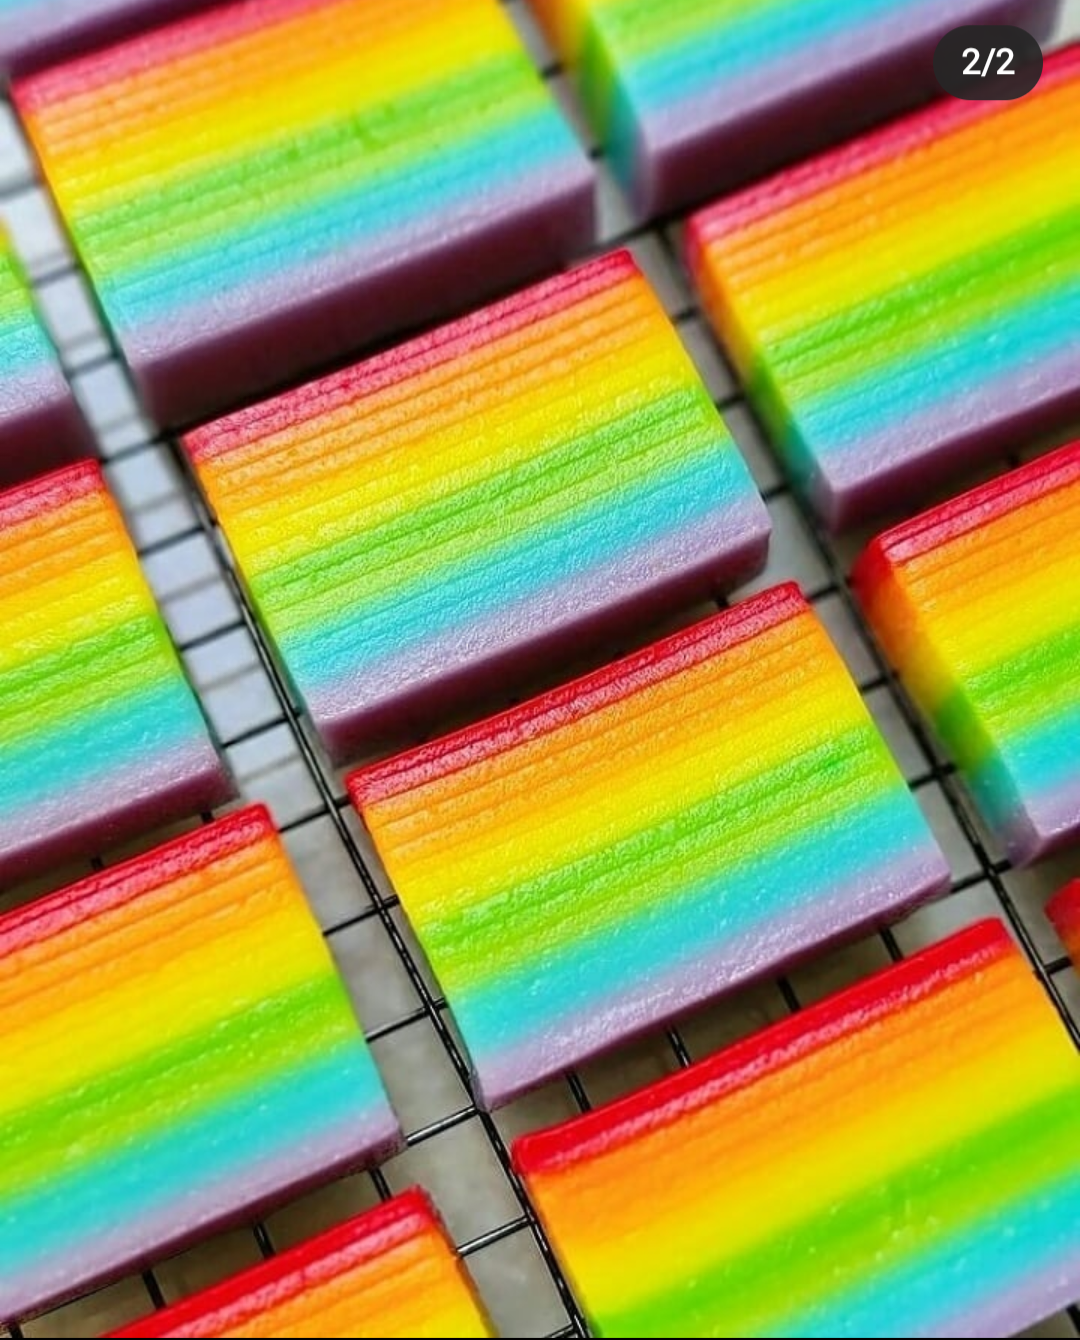kue_lapis_pelangi: (345, 574, 998, 1114), (159, 238, 779, 755), (13, 0, 600, 439), (0, 800, 409, 1332)
